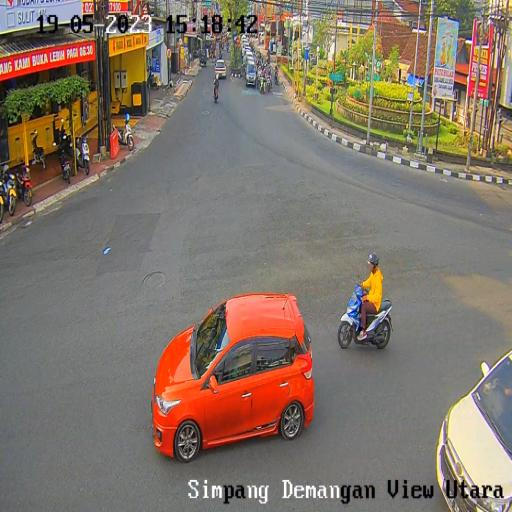mobil: (150, 285, 318, 469)
motor: (336, 278, 396, 356)
